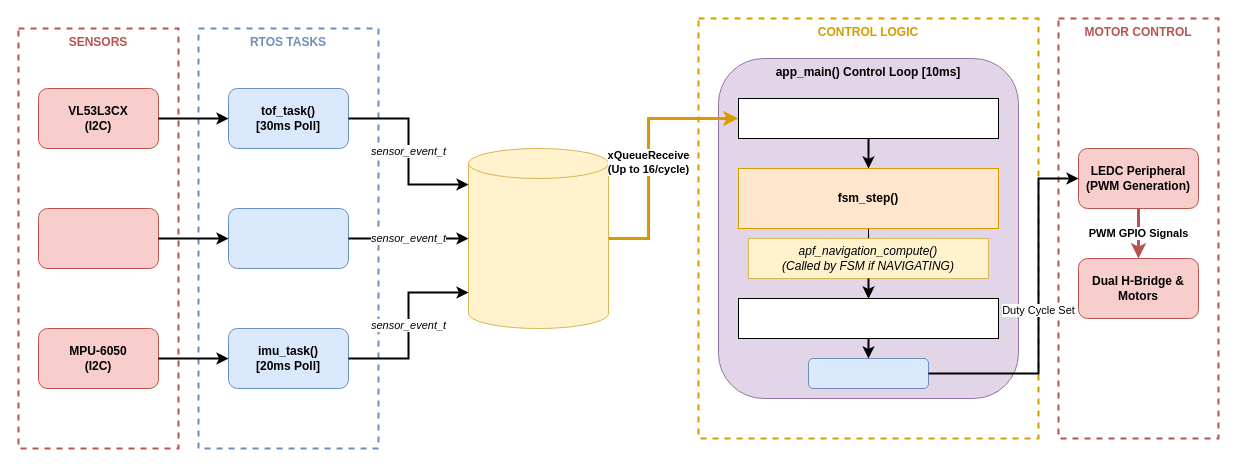
The diagram is 1236 pixels wide and 466 high, and some of its shapes have lost their labels. Here are the shapes that lost their labels. From the top down, the centre of each, then its label:
point (868, 118): SensorData Struct
point (98, 238): 4x IR Sensors (ADC1)
point (288, 238): ir_task() [10ms Poll]
point (538, 238): g_sensor_queue (xQueueSend) [Size: 32]
point (868, 318): ControlCommand Struct (Speed, Steering, Direction)
point (868, 373): motors_apply(cmd)
